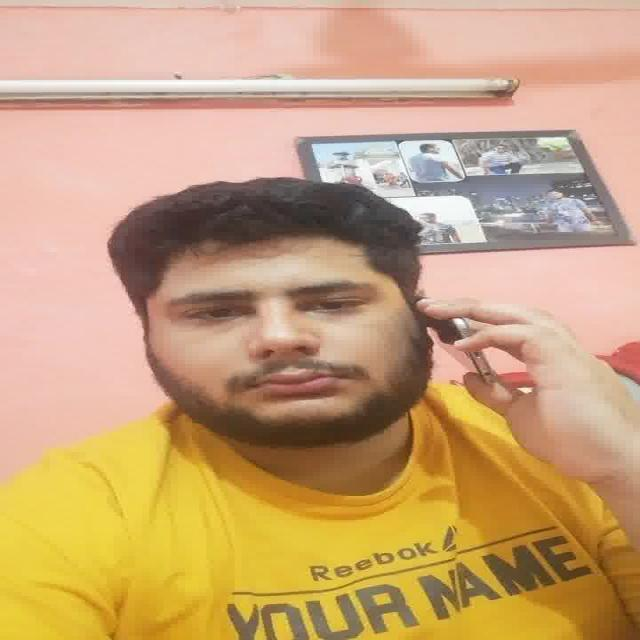Phone: (433, 311, 499, 384)
